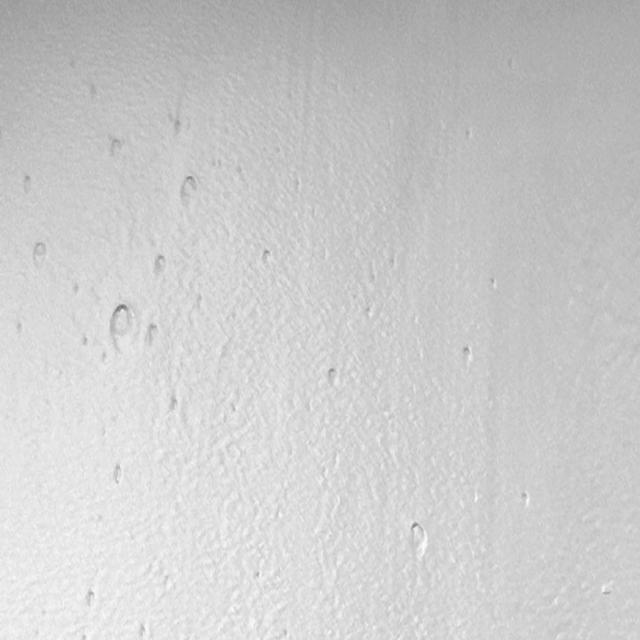pin holes: (110, 300, 140, 354), (404, 521, 432, 563), (29, 241, 52, 270), (180, 175, 202, 205), (150, 252, 170, 279), (108, 135, 129, 159), (323, 364, 342, 388), (82, 587, 100, 612), (111, 462, 129, 486), (147, 321, 163, 346), (460, 344, 477, 367), (168, 393, 184, 417), (21, 174, 37, 197), (249, 568, 266, 588), (518, 491, 534, 511), (260, 249, 275, 270), (98, 349, 112, 367), (136, 623, 150, 640), (172, 117, 184, 136), (81, 333, 93, 350), (15, 321, 27, 338), (364, 305, 377, 320), (488, 276, 500, 292), (464, 128, 476, 144), (70, 282, 81, 298), (253, 572, 266, 585), (279, 626, 291, 638)
